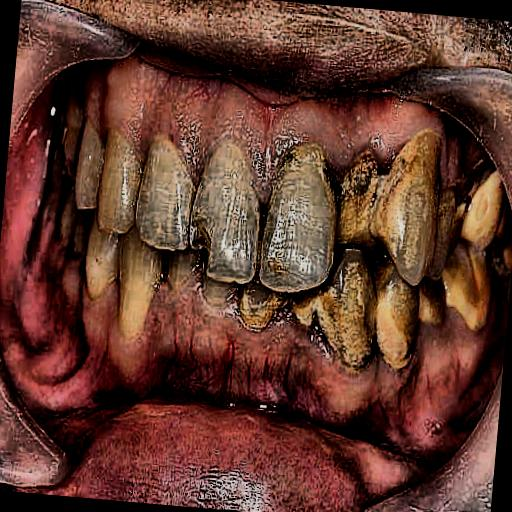Calculus: (187, 103, 512, 366)
